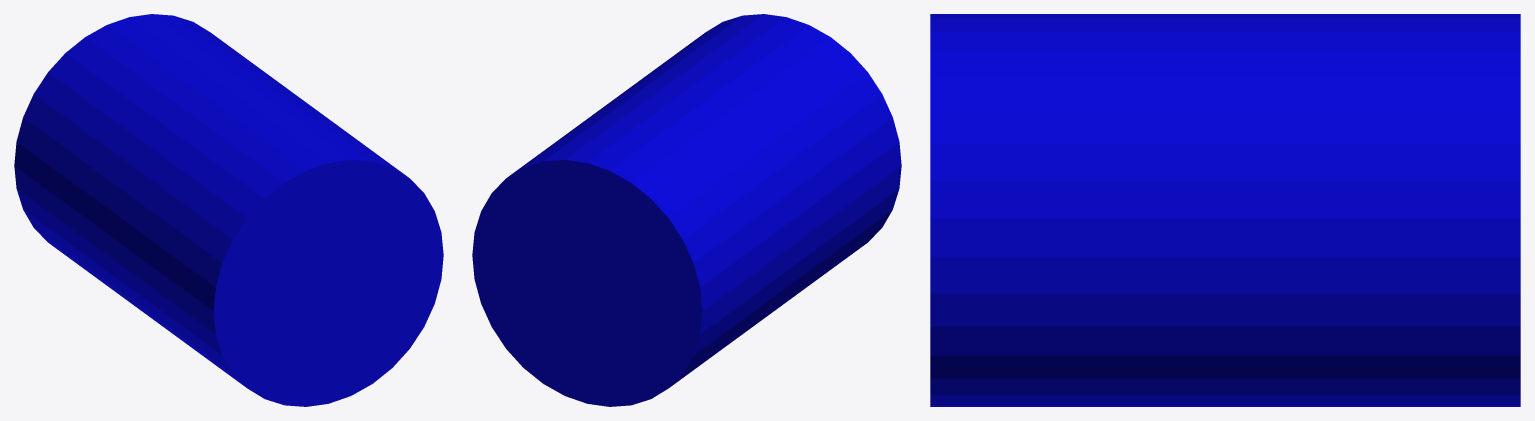
3 renders of one model, left to right at view 1: azimuth 30°, elevation 25°; view 2: azimuth 150°, elevation 25°; view 3: azimuth 270°, elevation 25°, orthographic. The views are drawn at different scales.
Bounding box in the file's own units: 0.32 × 0.32 × 0.48.
